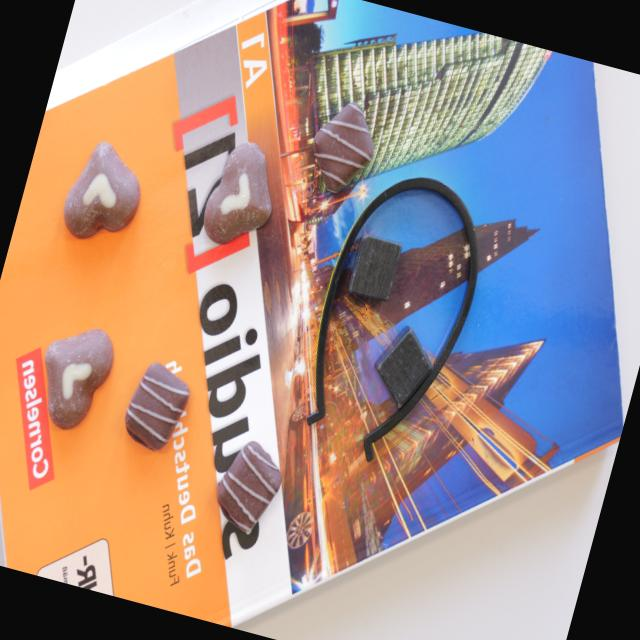Passion_au_lait: (27, 316, 121, 437), (56, 136, 151, 250), (198, 137, 286, 253)
Stracciatella: (302, 92, 386, 200), (209, 436, 288, 536), (119, 358, 194, 455)
